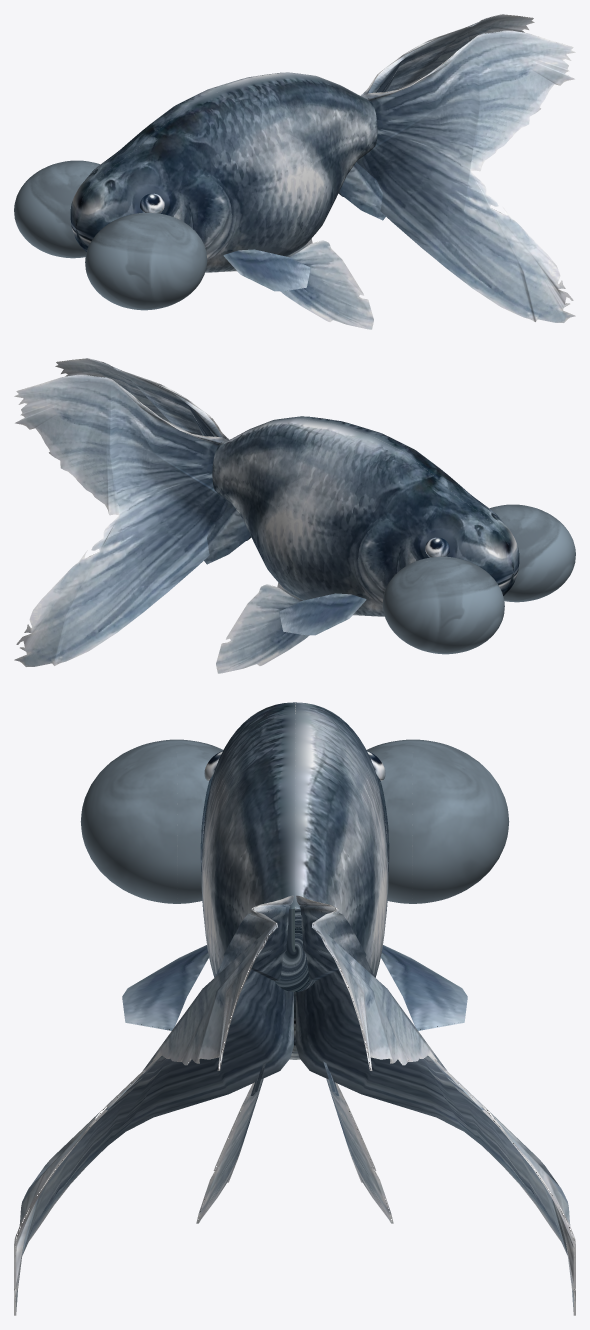
Rendered from gin-suihogan.glb.
3 renders of one model, top to bottom at view 1: azimuth 30°, elevation 25°; view 2: azimuth 150°, elevation 25°; view 3: azimuth 270°, elevation 25°, orthographic. The views are drawn at different scales.
Parts seen in each view (by area): view 1: body, caudal_near, sac_near, sac_far, pelvic_near, caudal_far, pectoral_near, gill_near, anal_near, eye_near; view 2: body, caudal_far, sac_far, sac_near, pelvic_far, caudal_near, pectoral_far, gill_far, anal_far, eye_far; view 3: body, caudal_near, caudal_far, sac_near, sac_far, pectoral_near, pectoral_far, pelvic_near, pelvic_far.
Boxes of the visible parts, x1,y1,x2,y2 form: body: [70, 72, 377, 272]; caudal_near: [357, 30, 575, 322]; sac_near: [85, 212, 207, 310]; sac_far: [14, 160, 100, 258]; pelvic_near: [280, 240, 373, 329]; caudal_far: [361, 14, 534, 95]; pectoral_near: [223, 249, 310, 291]; gill_near: [198, 176, 232, 259]; anal_near: [339, 162, 385, 220]; eye_near: [140, 193, 164, 213]; body: [212, 416, 519, 616]; caudal_far: [14, 374, 232, 666]; sac_far: [382, 556, 504, 654]; sac_near: [489, 504, 575, 602]; pelvic_far: [216, 584, 309, 673]; caudal_near: [55, 358, 228, 439]; pectoral_far: [279, 593, 366, 635]; gill_far: [357, 520, 391, 603]; anal_far: [204, 506, 250, 564]; eye_far: [425, 537, 449, 557]; body: [201, 702, 388, 1059]; caudal_near: [14, 895, 293, 1315]; caudal_far: [296, 895, 575, 1315]; sac_near: [80, 739, 223, 903]; sac_far: [366, 739, 509, 903]; pectoral_near: [122, 945, 208, 1030]; pectoral_far: [381, 945, 467, 1030]; pelvic_near: [196, 1078, 263, 1223]; pelvic_far: [326, 1078, 393, 1223].
Size of the model in its own units: 0.15 by 0.0715 by 0.0883.
1 material, 1 textured.
